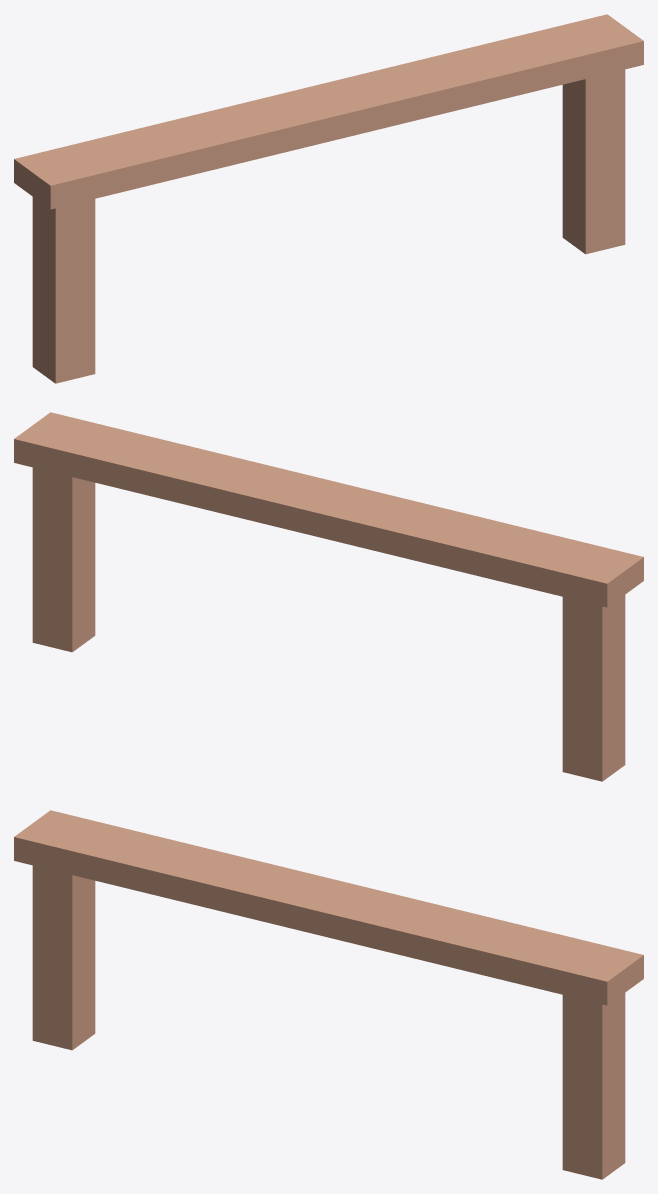
File: fence_simpleHigh.glb
3 renders of one model, top to bottom at view 1: azimuth 30°, elevation 25°; view 2: azimuth 150°, elevation 25°; view 3: azimuth 330°, elevation 25°, orthographic.
Parts seen in each view (by area): view 1: fence_simpleHigh; view 2: fence_simpleHigh; view 3: fence_simpleHigh.
Part boxes in pixels (<box>): fence_simpleHigh: <box>14,14,643,383</box>; fence_simpleHigh: <box>14,412,643,781</box>; fence_simpleHigh: <box>14,810,643,1179</box>.
Size of the model in its own units: 1.04 by 0.345 by 0.1112.
